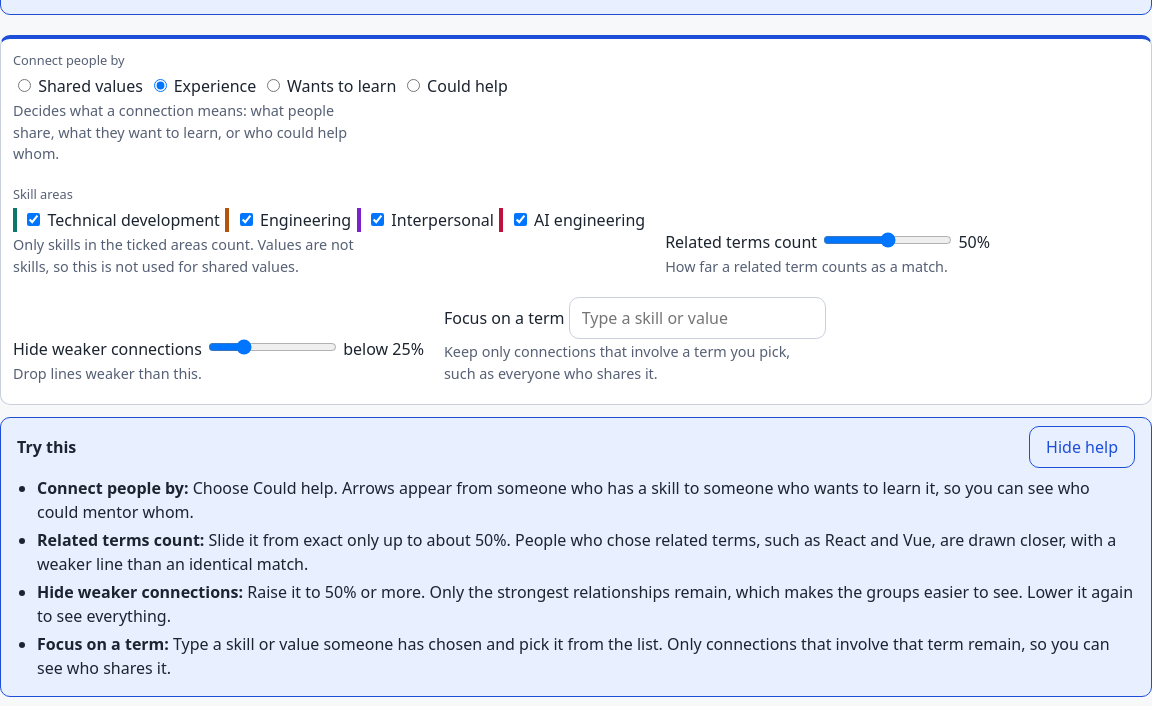
Test: Explore network › drops the adjacent-only edge when related terms are set to exact only
(page scrolled)
Set the slider labelled "Hide weaker" to "0.1": (227, 347) [208,339,337,355]
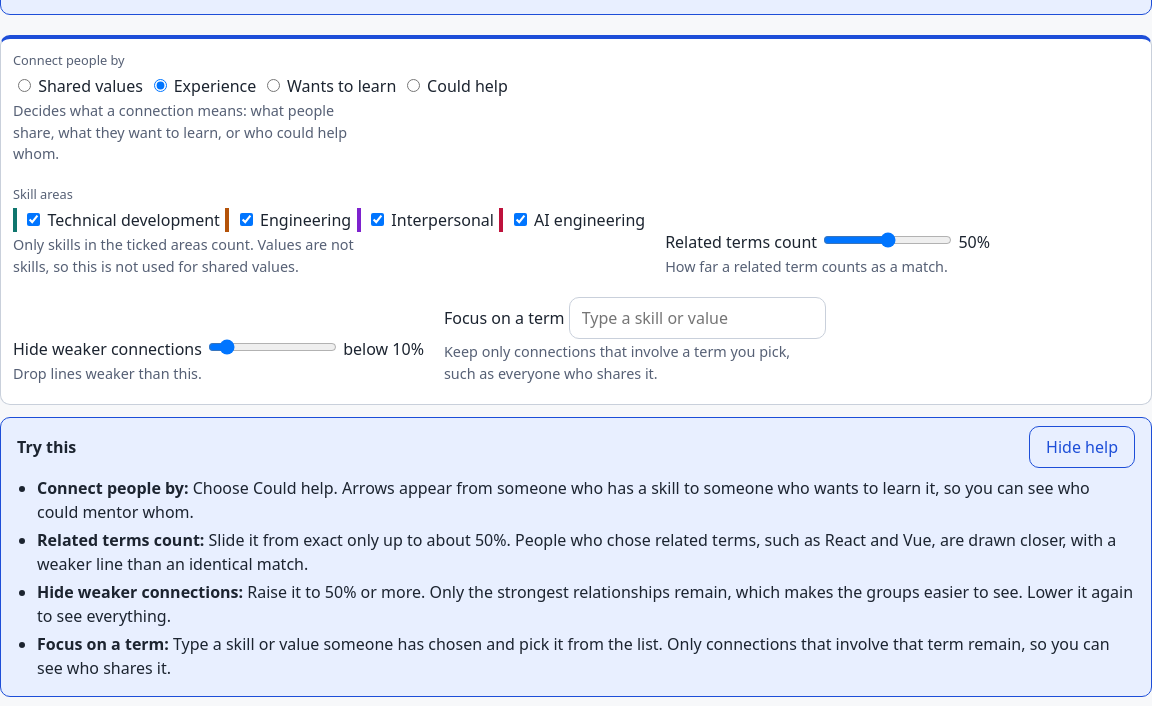
Set the slider labelled "Related terms count" to "0": (831, 240) [823,232,952,248]
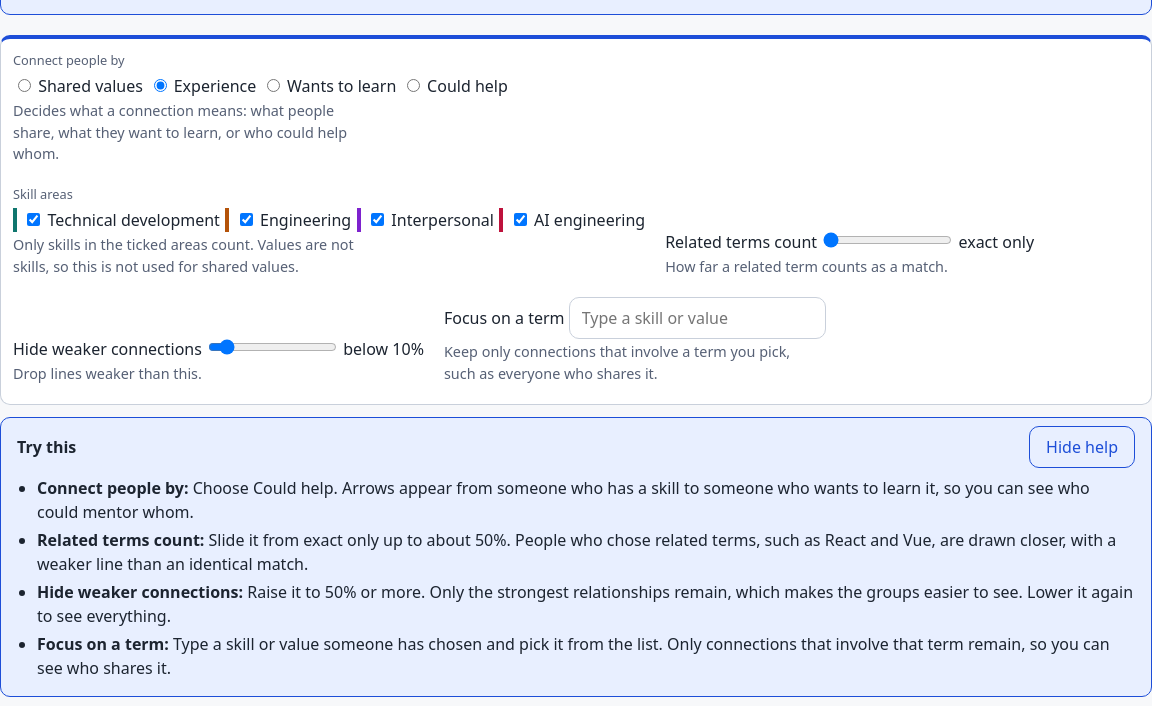
Expected: the text "exact only" is shown, [958,231,1034,253]
